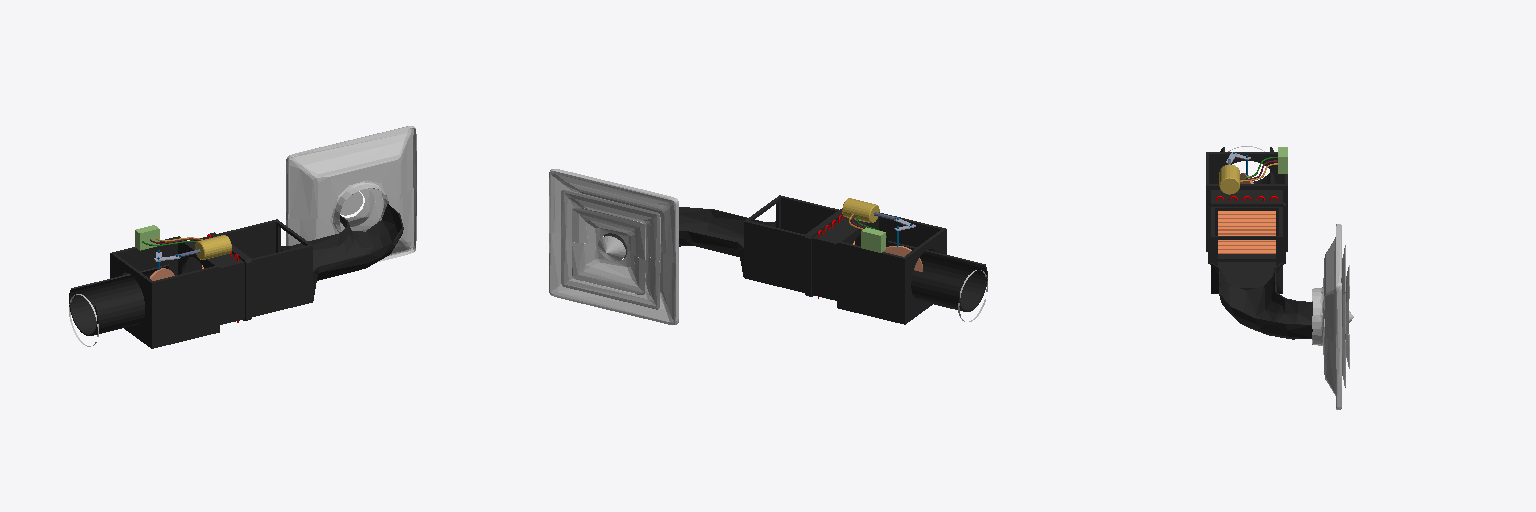
Rendered from diffuser_no_mod.obj.
The picture shows the model from 3 angles: view 1: azimuth 30°, elevation 25°; view 2: azimuth 150°, elevation 25°; view 3: azimuth 270°, elevation 25°; orthographic projection.
Parts seen in each view (by area): view 1: Diffuser01_DiffuserGeom; view 2: Diffuser01_DiffuserGeom; view 3: Diffuser01_DiffuserGeom.
Part boxes in pixels (left/top/right/bottom): Diffuser01_DiffuserGeom: left=69, top=126, right=416, bottom=348; Diffuser01_DiffuserGeom: left=549, top=169, right=987, bottom=324; Diffuser01_DiffuserGeom: left=1206, top=146, right=1353, bottom=409.
Size of the model in its own units: 3.02 by 0.966 by 1.03.